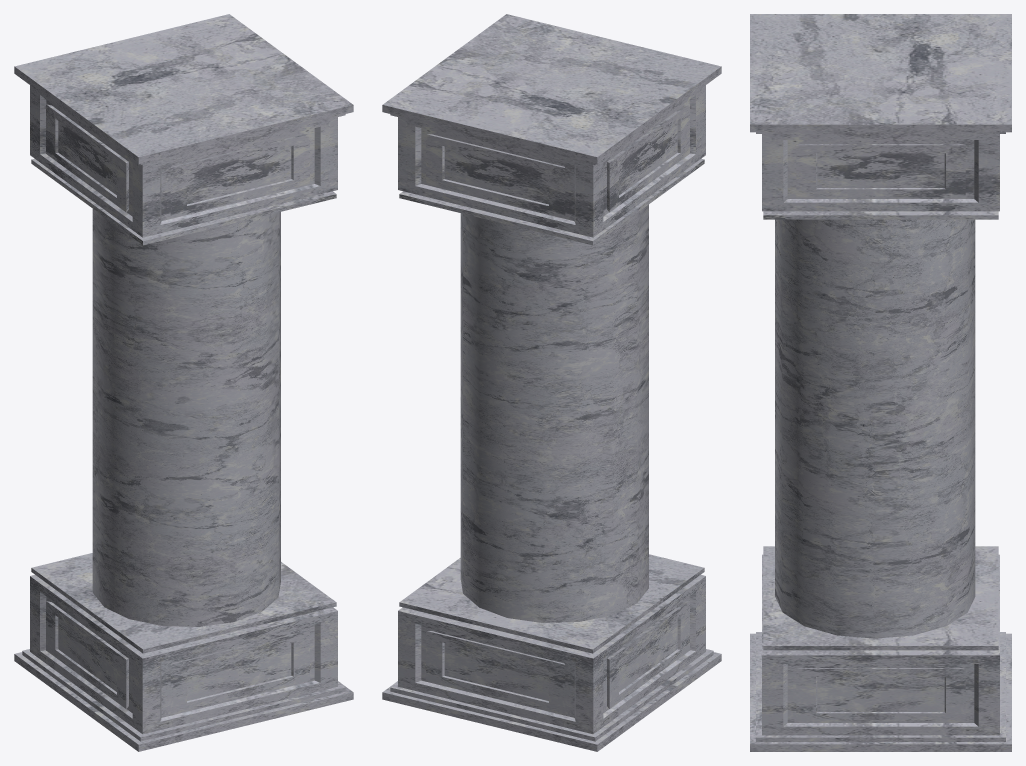
Rendered from PillarFancy.glb.
3 views of the same model, side by side, from view 1: azimuth 30°, elevation 25°; view 2: azimuth 150°, elevation 25°; view 3: azimuth 270°, elevation 25° (orthographic). The views are drawn at different scales.
Parts seen in each view (by area): view 1: PillarStartPiece.008; view 2: PillarStartPiece.008; view 3: PillarStartPiece.008.
Part boxes in pixels (box(x1,y1,x2,y2)): PillarStartPiece.008: box(14, 14, 353, 751); PillarStartPiece.008: box(382, 14, 721, 751); PillarStartPiece.008: box(750, 14, 1011, 751).
Bounding box in the file's own units: 1.81 × 4.78 × 1.81.
Materials: 1 (1 with a texture image).
